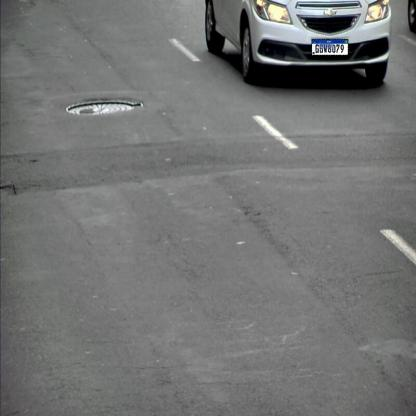PlacaM: (312, 39, 348, 55)
